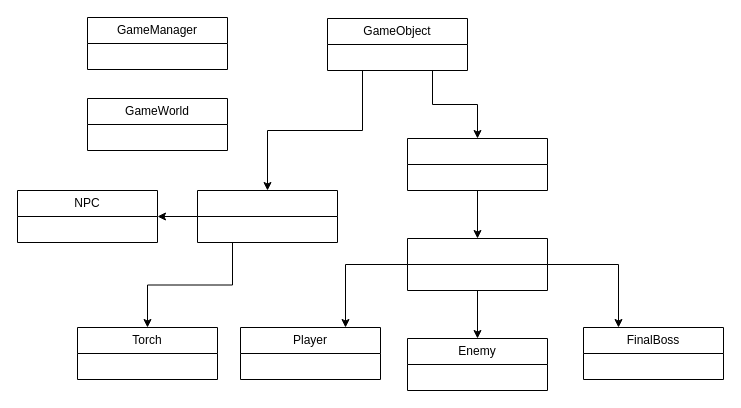
Some shapes in this 741 by 408 pixel diagram are drawn without their labels. The centre of each missing label's shape, as x and y in pixels:
Character: point (477, 264)
DyamicObject: point (477, 164)
StaticObject: point (267, 216)
